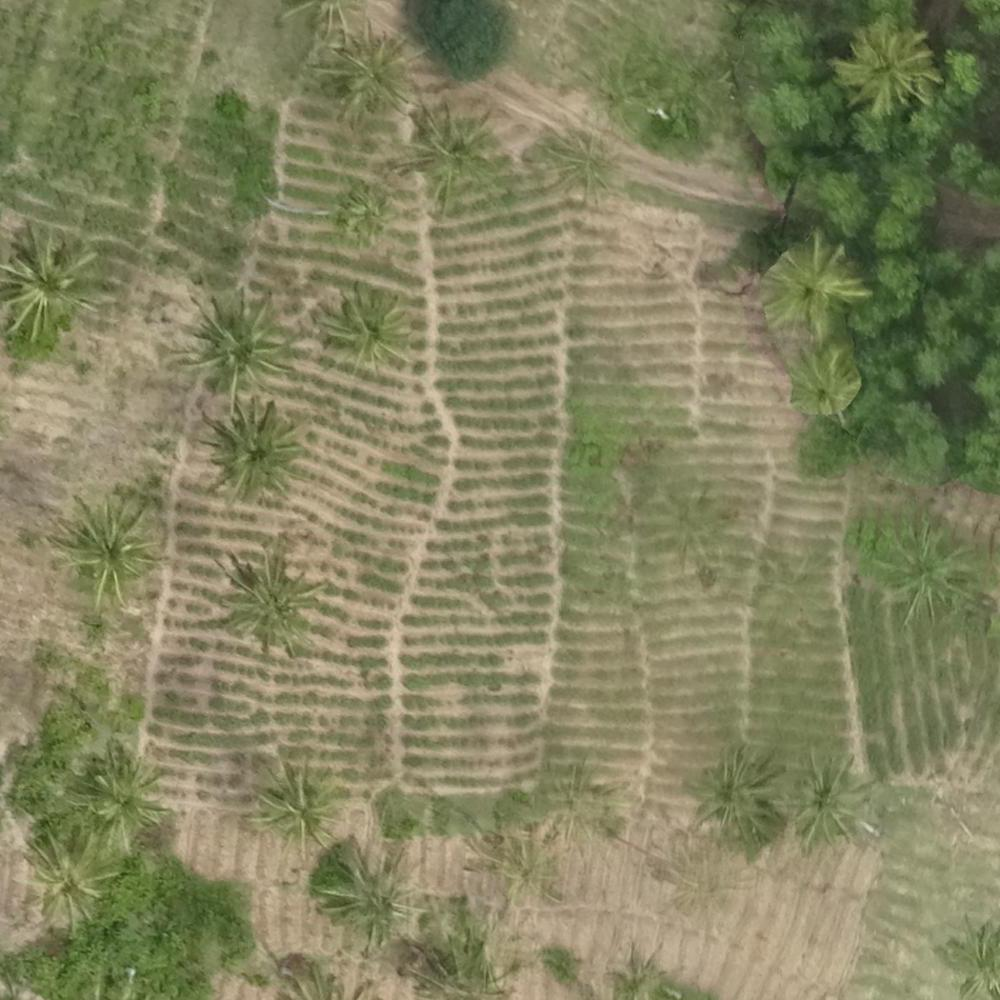Palm: (187, 295, 294, 396), (59, 497, 158, 602), (204, 402, 303, 507), (2, 225, 97, 330), (18, 827, 117, 927), (215, 550, 315, 646), (400, 101, 498, 197), (690, 747, 780, 848), (759, 241, 860, 328), (77, 750, 166, 845), (836, 27, 935, 112), (253, 757, 345, 846), (781, 755, 868, 848), (326, 27, 416, 111), (321, 285, 409, 368)
